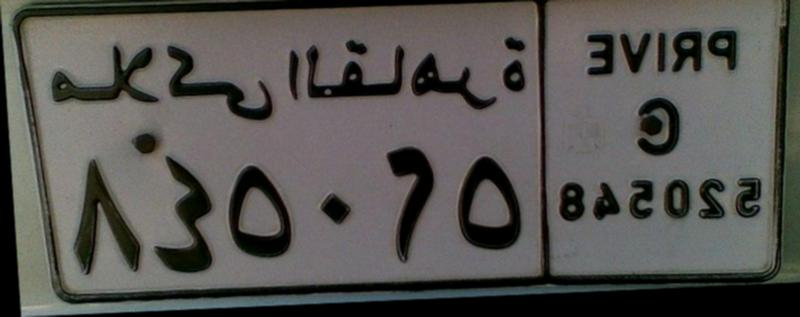License_Plate: (19, 0, 800, 307)
